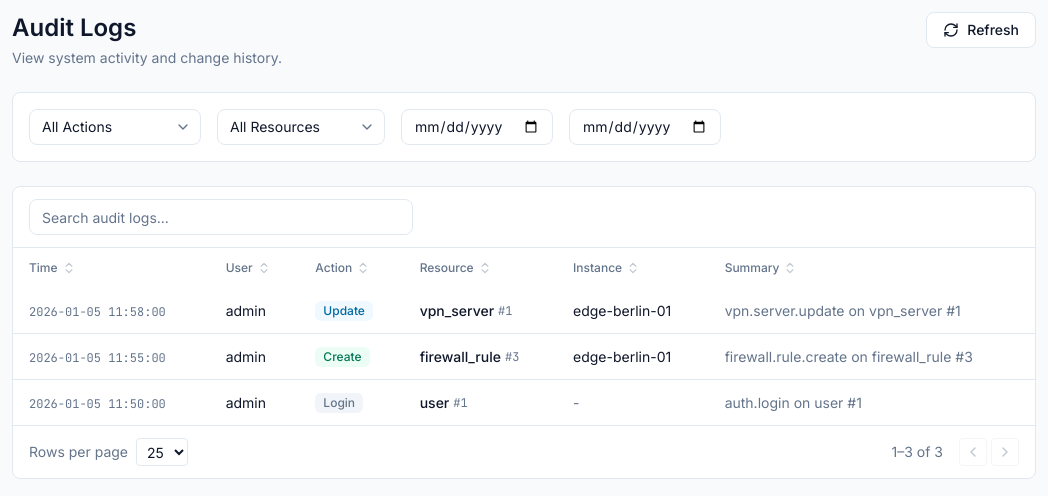
it: AuditLogs › search filters rows
The width and height of the screenshot is (1048, 496).
Expected: the text "vpn.server.update on vpn_server #1" is shown, [725,302,961,318]
Type in DataTable search
Type "firewall" into the field with placeholder "Search audit logs..." at point(221, 217), box [29,199,413,235]
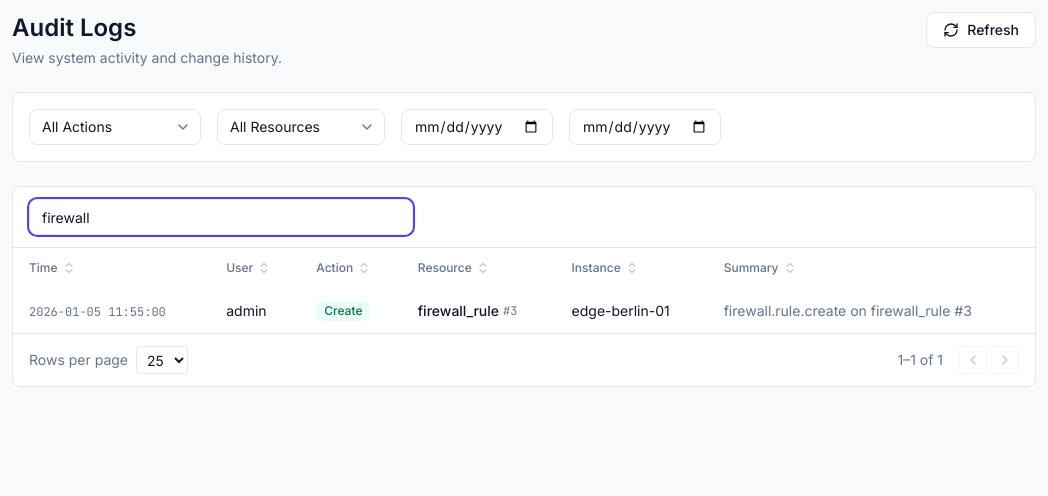
Expected: the text "firewall.rule.create on firewall_rule #3" is shown, [724,302,972,318]
Result: the text "vpn.server.update on vpn_server #1" is gone
